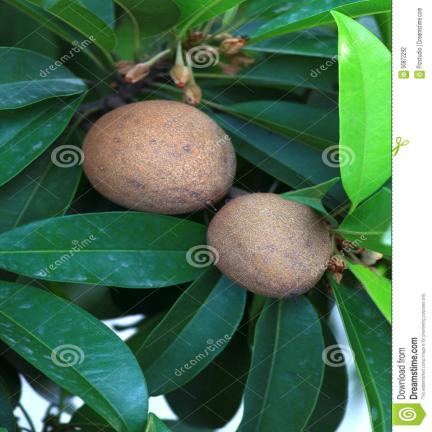kiwi: (83, 101, 235, 214), (208, 194, 330, 298)
